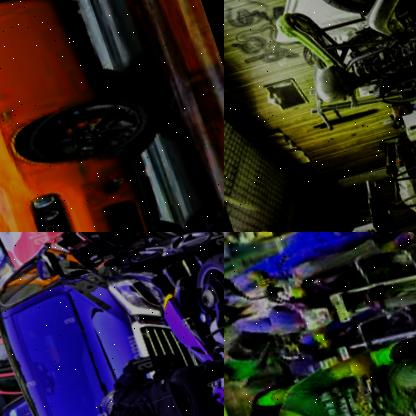bike: (239, 0, 416, 137), (252, 232, 416, 342), (157, 263, 224, 416), (350, 283, 416, 416)
car: (0, 232, 220, 416), (224, 232, 325, 267)
